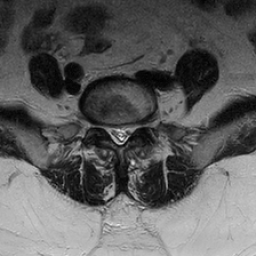CCS_normal: (116, 115, 123, 152)
LFS_stenosis: (132, 112, 141, 134)
LLS_normal: (123, 118, 132, 144)
RFS_severe_stenosis: (96, 114, 106, 140)
RLS_normal: (107, 117, 116, 146)
